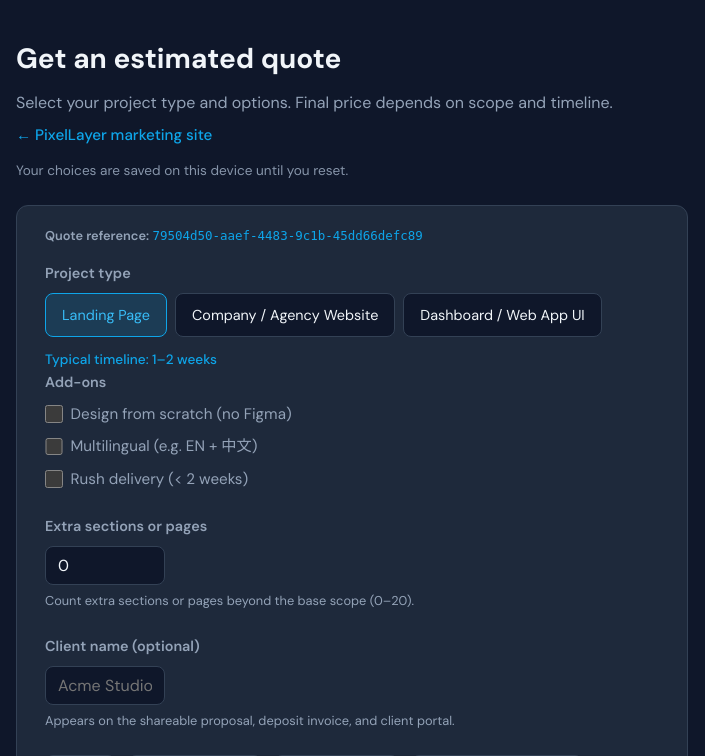
Scenario: Calculator › toggles add-on and updates estimate
Click the checkbox labelled "Design from scratch (no Figma)": (54, 414) [45,405,63,423]
(page scrolled)
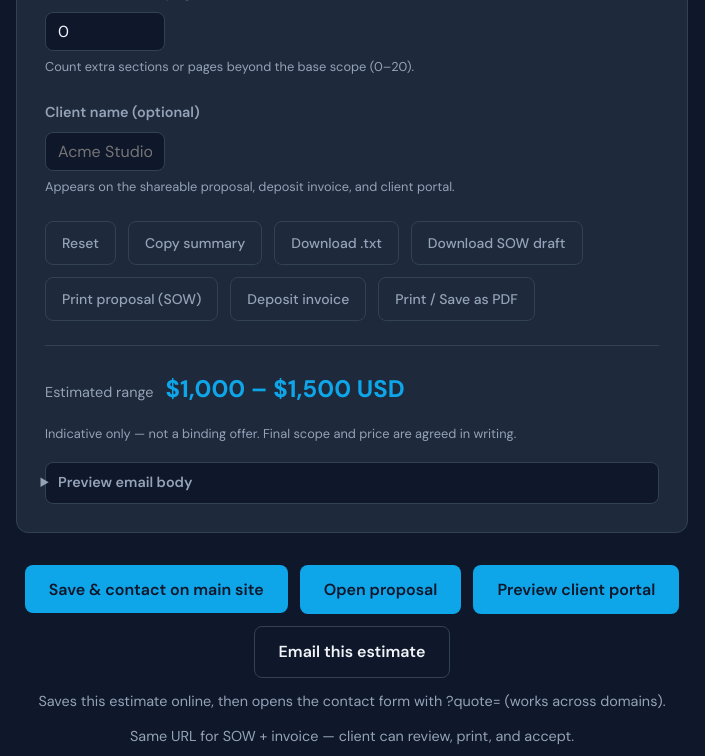
Expected: the text with class "calc-result-value" reads "$1,000 – $1,500 USD", [165,370,405,409]
